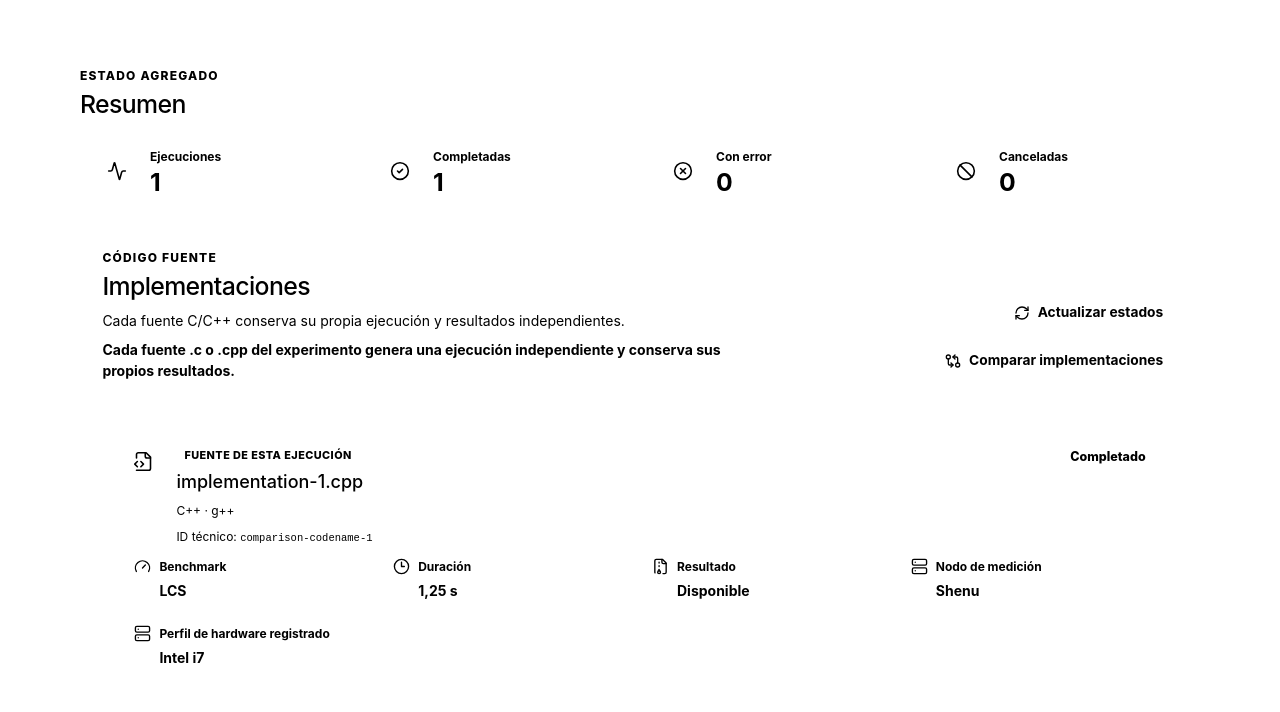
Scenario: SubmissionOverviewPage › comparison mode preselects exactly 2 eligible executions
(page scrolled)
Click the button "Comparar implementaciones".
click(1054, 361)  # box [931, 341, 1178, 381]
(page scrolled)
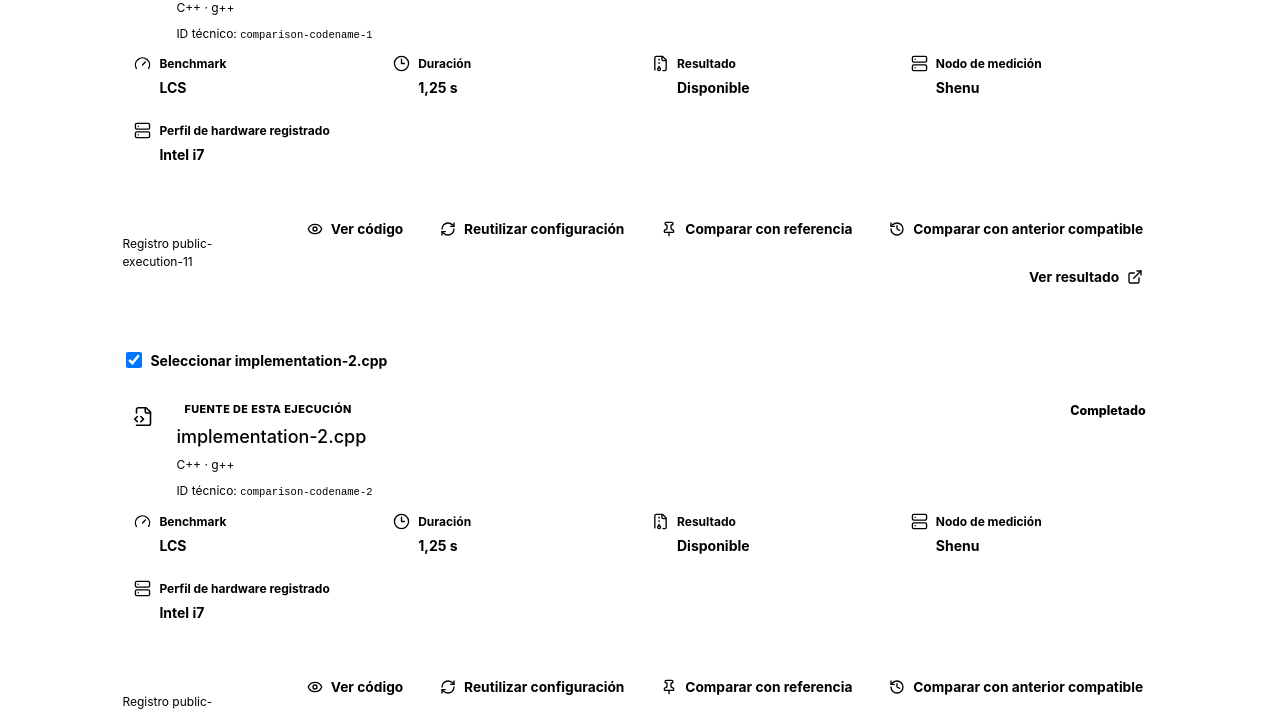
Expected: the checkbox labelled "Seleccionar implementation-2.cpp" is checked, [126, 352, 142, 368]
